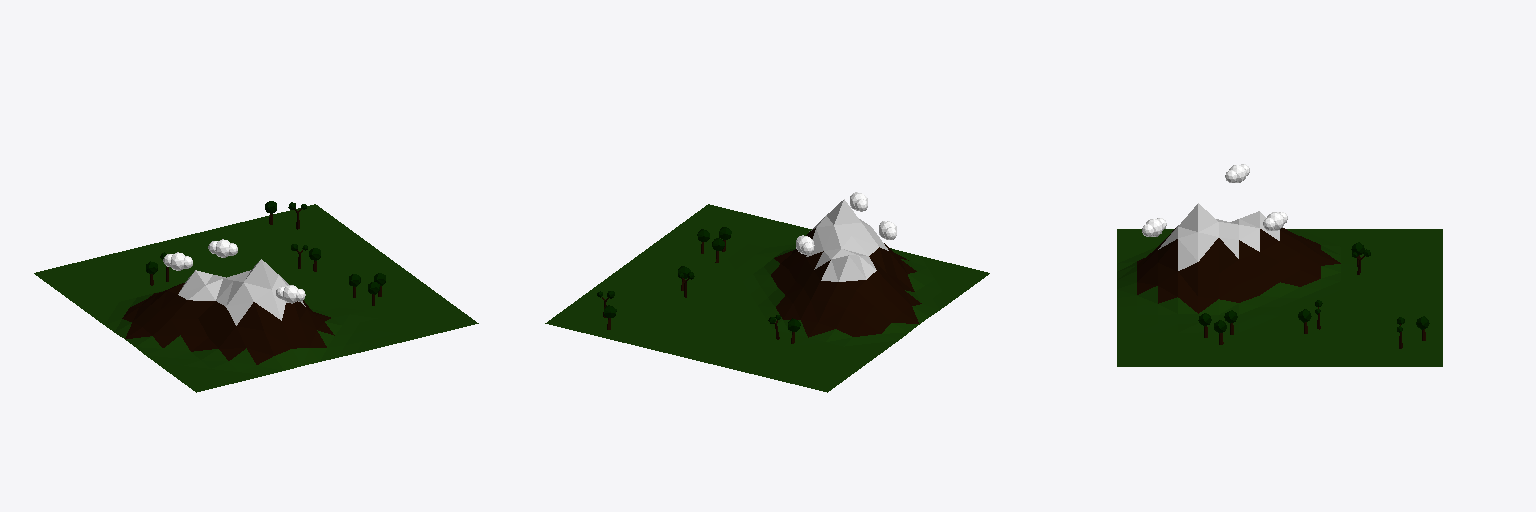
Rendered from mountain.obj.
The picture shows the model from 3 angles: view 1: azimuth 30°, elevation 25°; view 2: azimuth 150°, elevation 25°; view 3: azimuth 270°, elevation 25°; orthographic projection.
Parts seen in each view (by area): view 1: Tree1_Icosphere.002; view 2: Tree1_Icosphere.002; view 3: Tree1_Icosphere.002.
Boxes of the visible parts, x1=… form: Tree1_Icosphere.002: x1=34, y1=201, x2=478, y2=392; Tree1_Icosphere.002: x1=545, y1=192, x2=989, y2=392; Tree1_Icosphere.002: x1=1117, y1=164, x2=1442, y2=366.
Bounding box in the file's own units: 13.93 × 4.02 × 13.93.